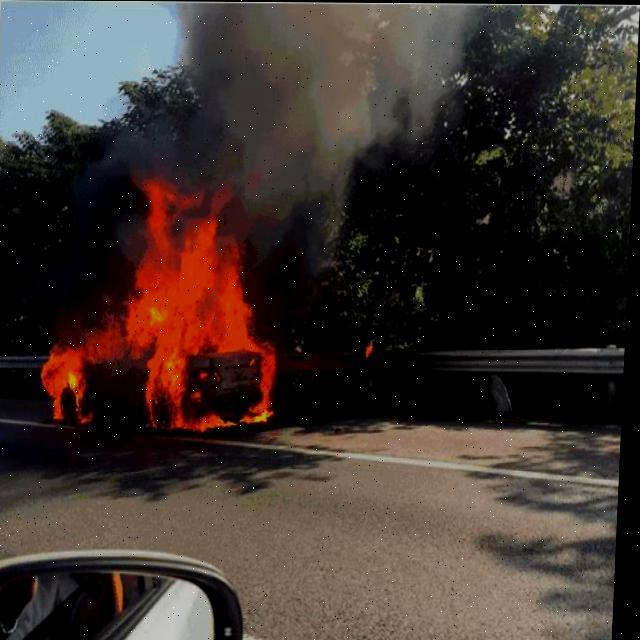Fire: (42, 168, 290, 441)
